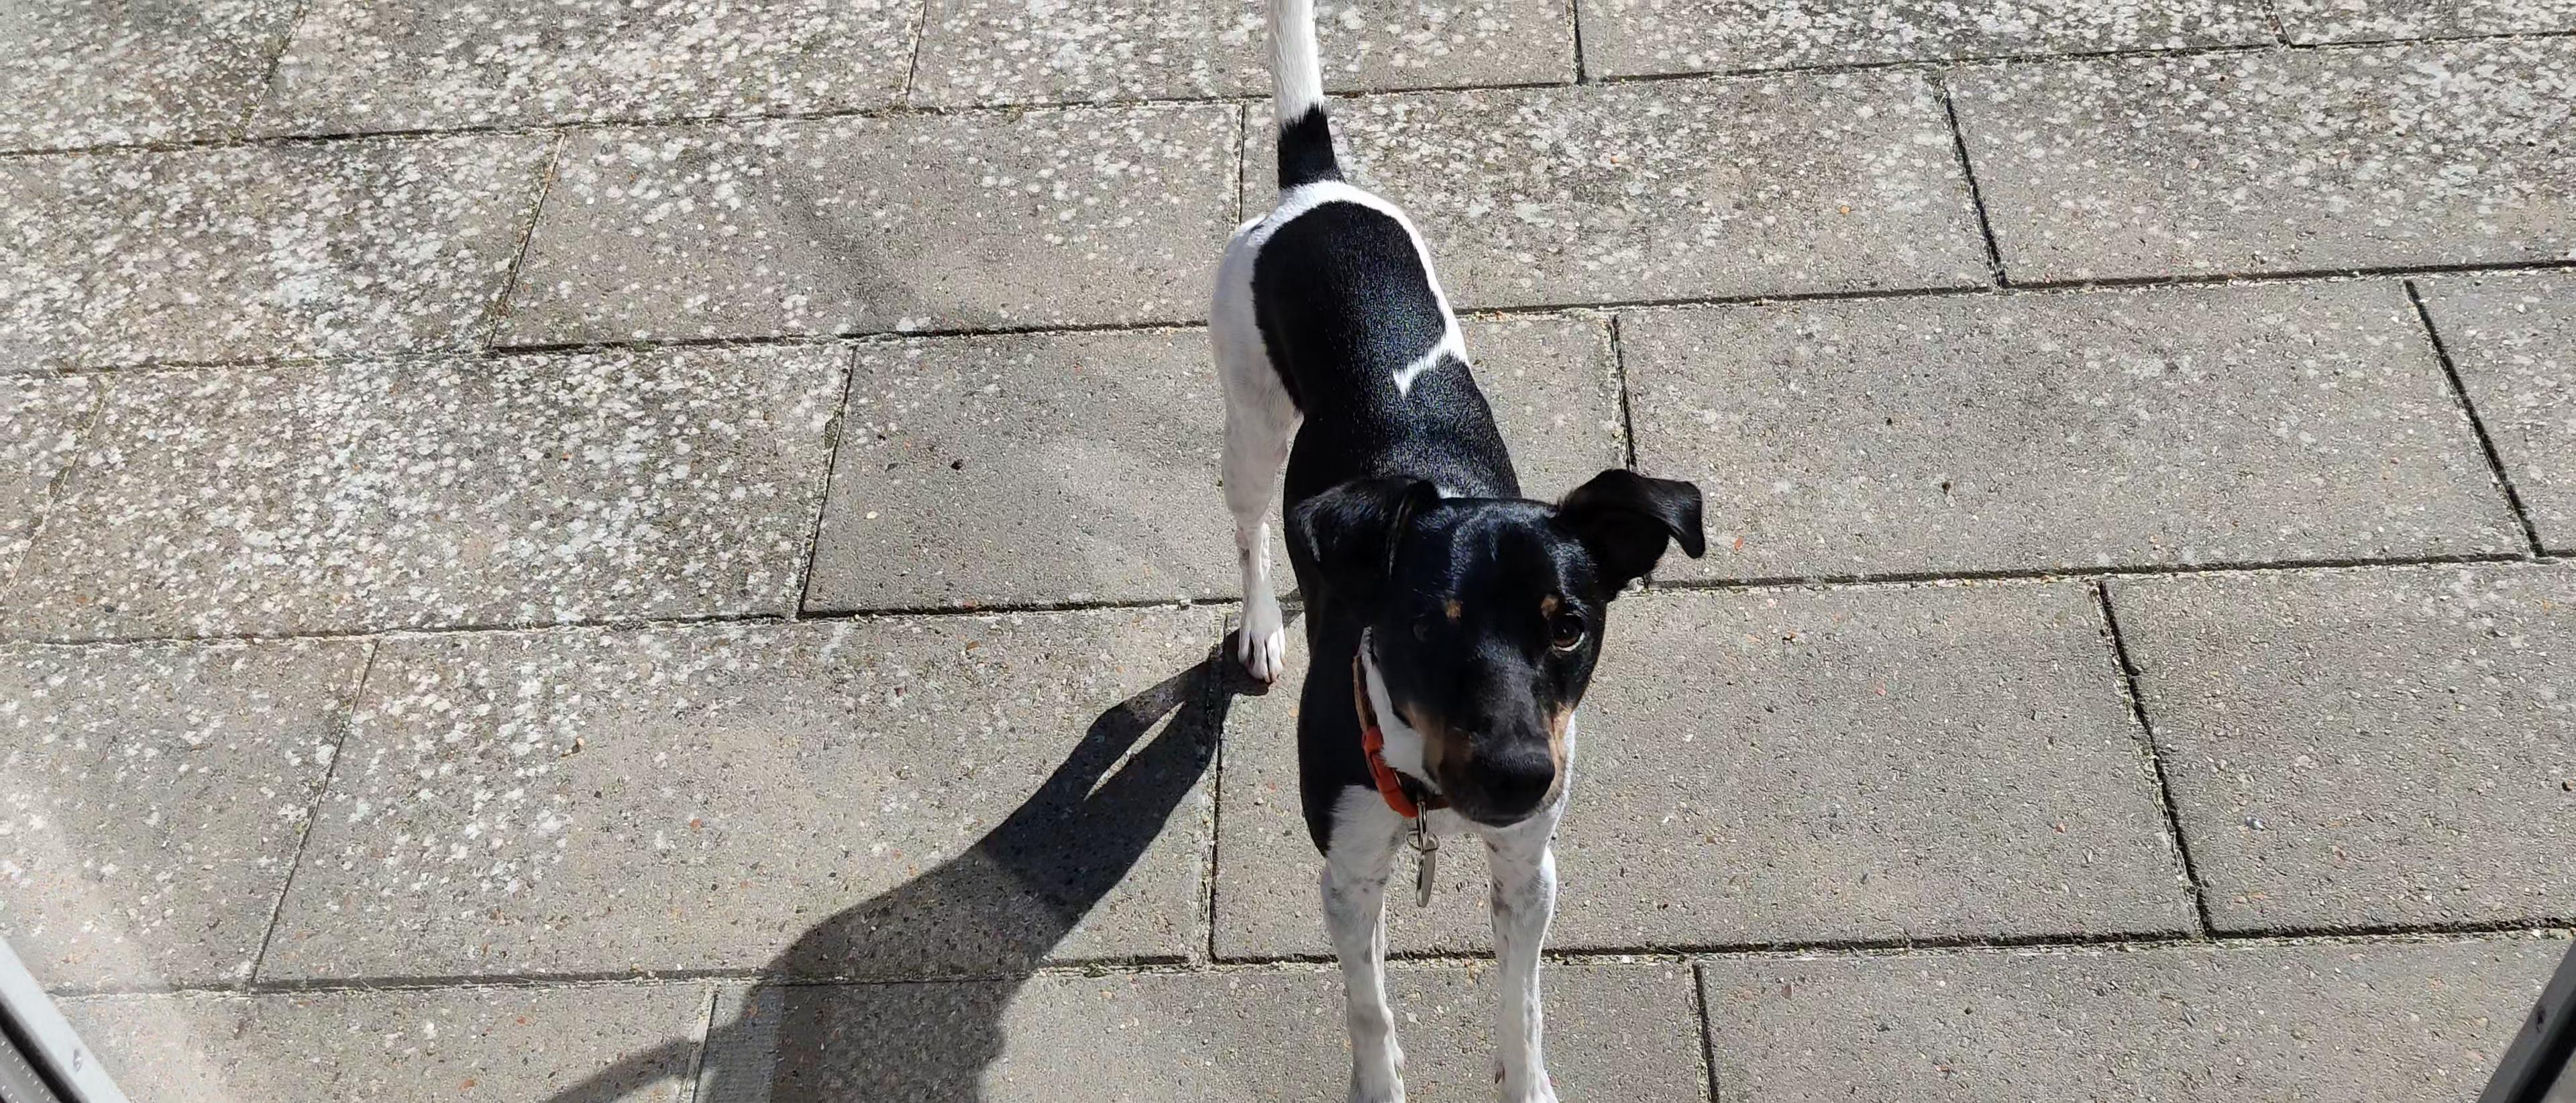Dog: (1180, 0, 1722, 1103)
